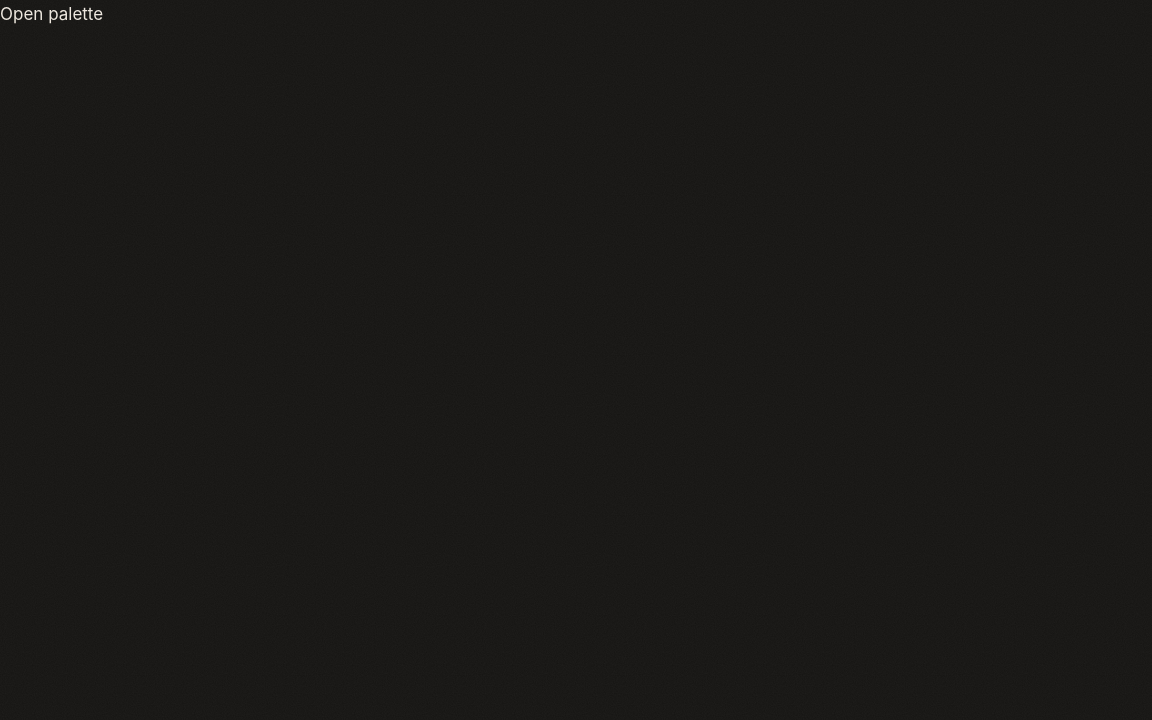
Command palette › shows a helpful empty state
This screenshot has width=1152, height=720.
Type keys "{Control>}k{/Control}"
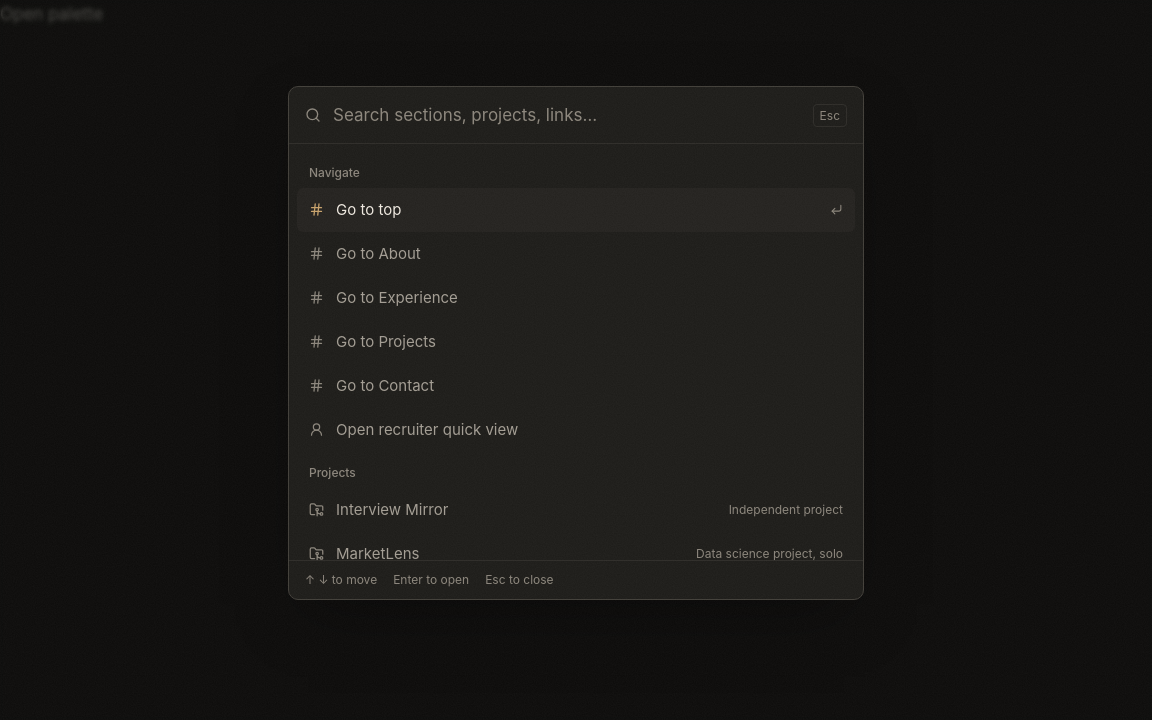
Type "zzzz-no-match" into the dropdown.
click(567, 115); type("zzzz-no-match")  # box [333,87,801,143]
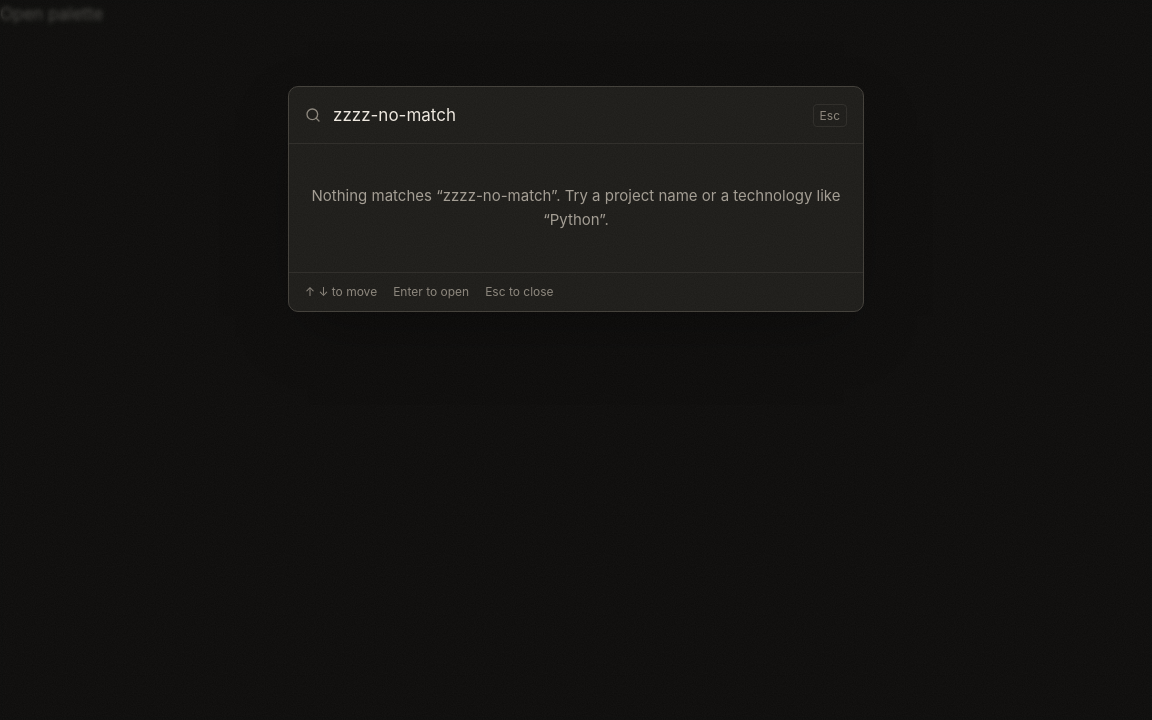
Result: no options are shown
Result: the list item "Nothing matches" is shown at [312,186,443,205]
